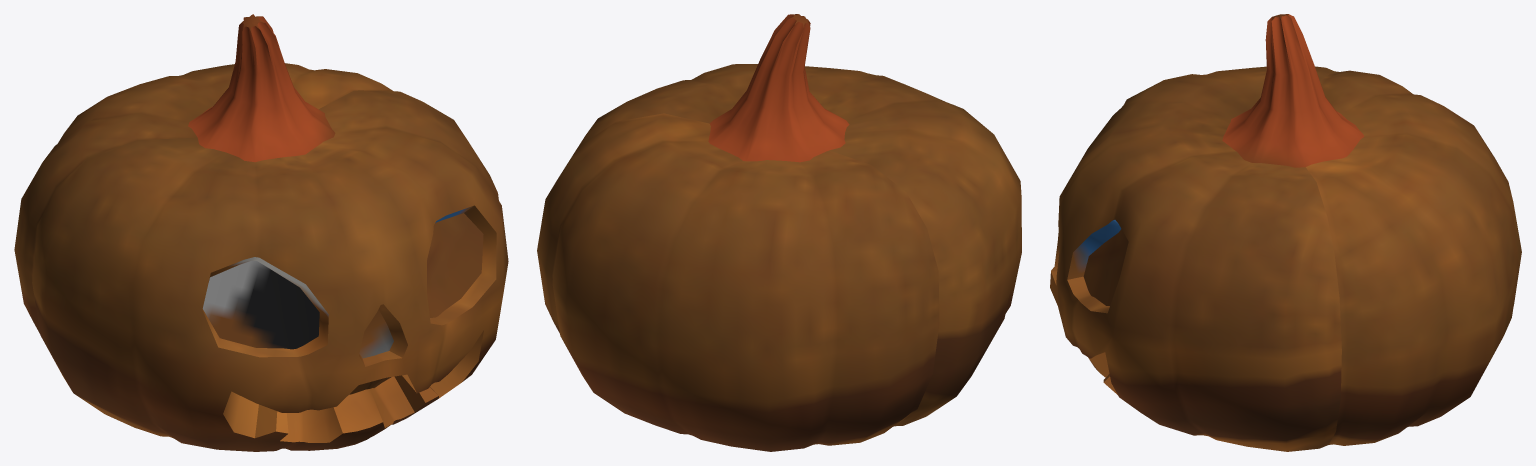
File: pumpkin_0.fbx
3 views of the same model, side by side, from view 1: azimuth 30°, elevation 25°; view 2: azimuth 150°, elevation 25°; view 3: azimuth 270°, elevation 25° (orthographic). The views are drawn at different scales.
Parts seen in each view (by area): view 1: pumpkin_0; view 2: pumpkin_0; view 3: pumpkin_0.
Boxes of the visible parts, x1,y1,x2,y2 form: pumpkin_0: (14, 14, 508, 451); pumpkin_0: (537, 14, 1021, 451); pumpkin_0: (1050, 14, 1521, 451).
Size of the model in its own units: 36.87 by 31.75 by 36.18.
